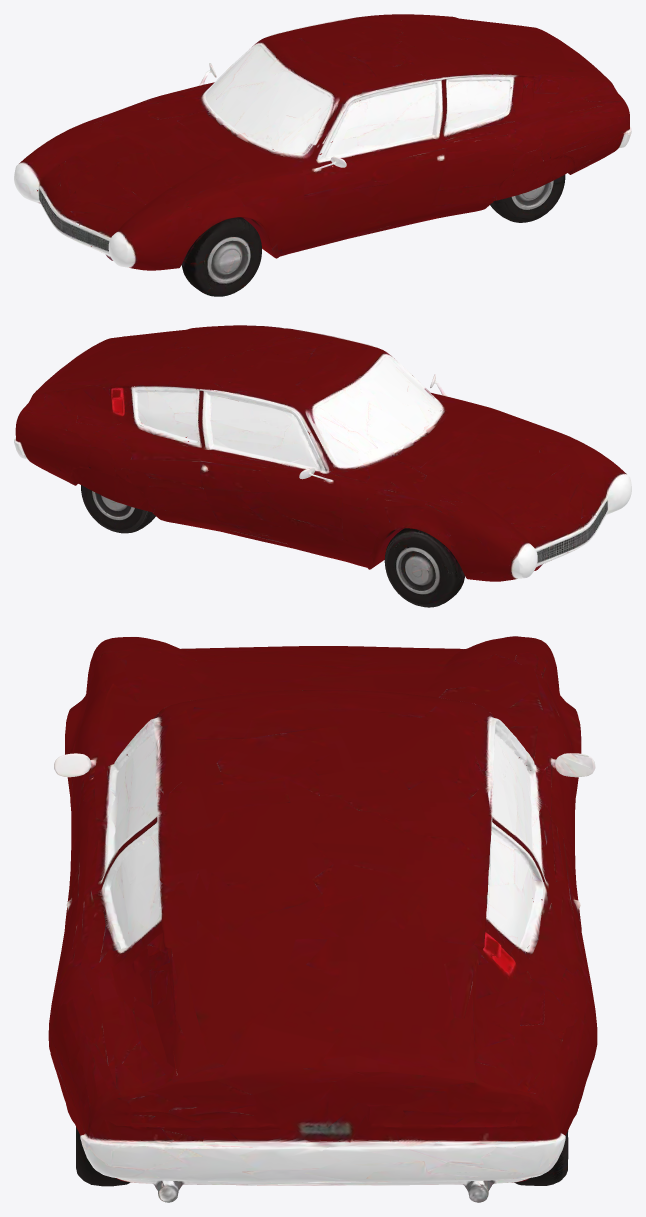
Rendered from getkong-mcar4.glb.
The picture shows the model from 3 angles, top to bottom: view 1: azimuth 30°, elevation 25°; view 2: azimuth 150°, elevation 25°; view 3: azimuth 270°, elevation 25°; orthographic projection. The views are drawn at different scales.
Visible parts, largest first — view 1: output_unwrapped; view 2: output_unwrapped; view 3: output_unwrapped.
Part boxes in pixels (x1=…): output_unwrapped: x1=14, y1=14, x2=631, y2=296; output_unwrapped: x1=14, y1=325, x2=631, y2=607; output_unwrapped: x1=48, y1=636, x2=597, y2=1202.
Bounding box in the file's own units: 1.9 × 0.5604 × 0.8669.
Materials: 1 (1 with a texture image).
